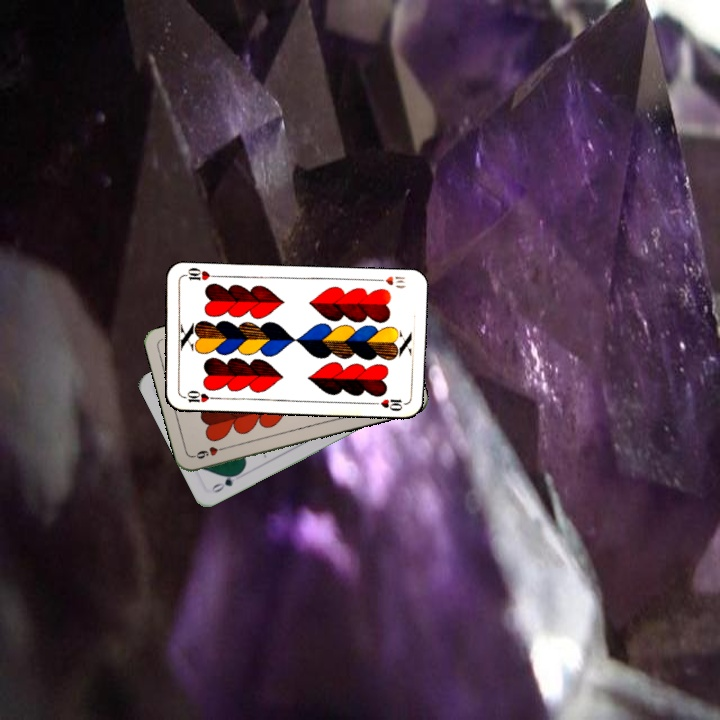GO: (208, 468, 243, 495)
H10: (370, 272, 408, 291), (178, 387, 218, 405)
H9: (189, 442, 229, 461)
